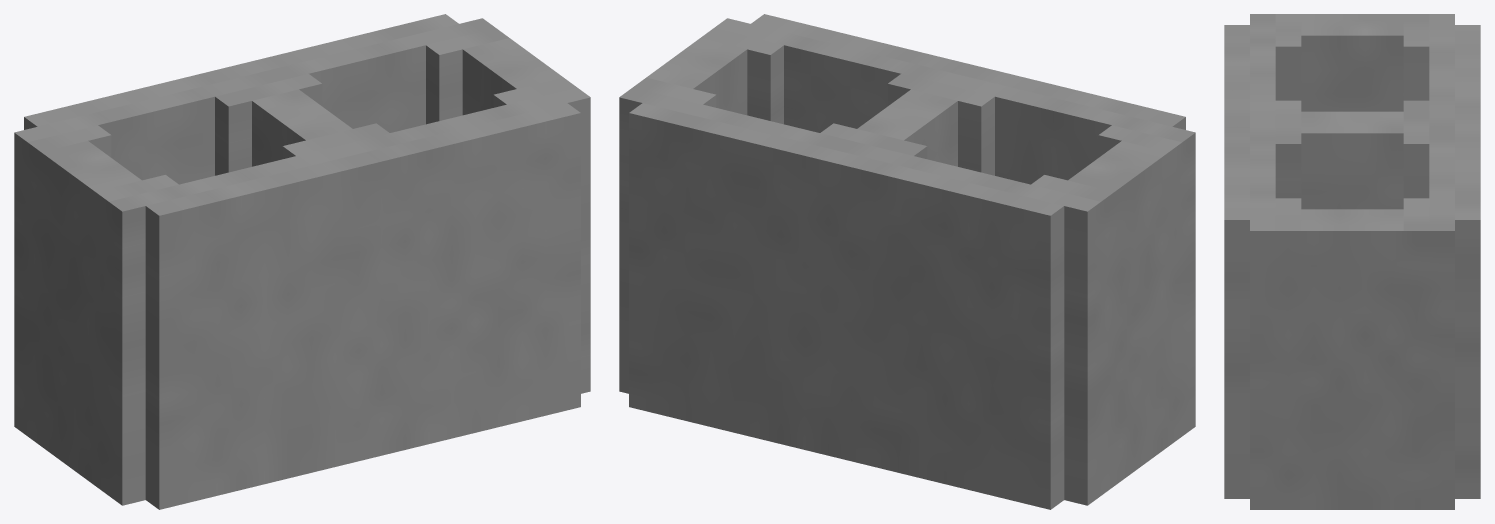
The model's file is SmallObject_CinderBlock.fbx.
The picture shows the model from 3 angles, left to right: view 1: azimuth 30°, elevation 25°; view 2: azimuth 150°, elevation 25°; view 3: azimuth 270°, elevation 25°; orthographic projection. The views are drawn at different scales.
Visible parts, largest first — view 1: CinderBlock; view 2: CinderBlock; view 3: CinderBlock.
Boxes of the visible parts, box(x1,y1,x2,y2) form: CinderBlock: box(14, 14, 590, 509); CinderBlock: box(619, 14, 1195, 509); CinderBlock: box(1224, 14, 1480, 509).
Bounding box in the file's own units: 20 × 12 × 10.
